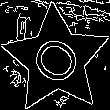O_SE: (24, 28, 88, 91)
